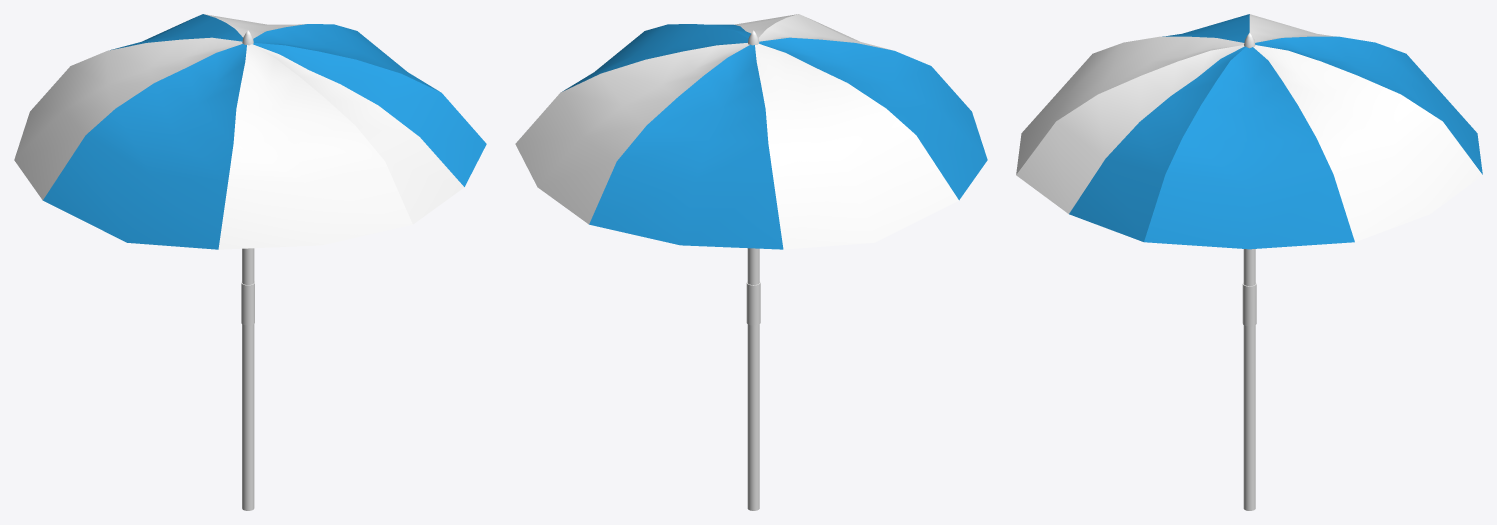
Rendered from semsiye.fbx.
3 views of the same model, side by side, from view 1: azimuth 30°, elevation 25°; view 2: azimuth 150°, elevation 25°; view 3: azimuth 270°, elevation 25° (orthographic).
Visible parts, largest first — view 1: semsiye; view 2: semsiye; view 3: semsiye.
Boxes of the visible parts, x1,y1,x2,y2 form: semsiye: (14,14,486,510); semsiye: (515,14,987,510); semsiye: (1016,14,1482,510).
Bounding box in the file's own units: 858 × 973 × 865.
